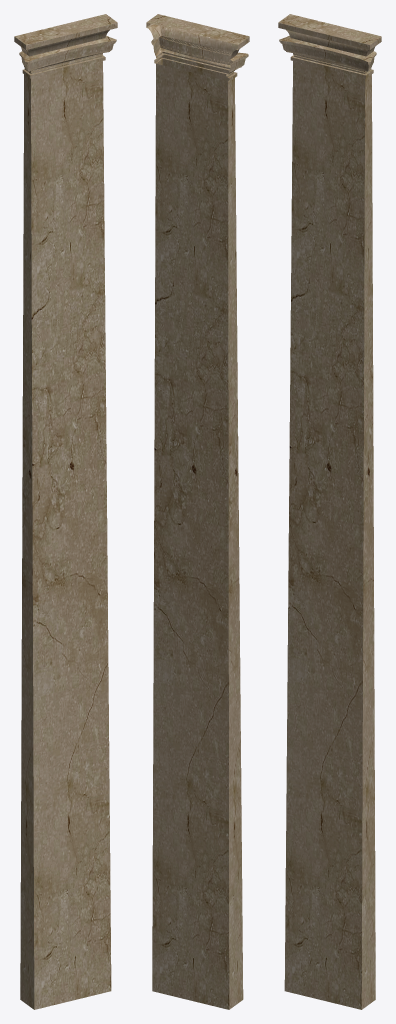
The model's file is pasted__stone_column_880.fbx.
The picture shows the model from 3 angles, left to right: view 1: azimuth 30°, elevation 25°; view 2: azimuth 150°, elevation 25°; view 3: azimuth 330°, elevation 25°; orthographic projection.
Visible parts, largest first — view 1: pasted__Node_1384; view 2: pasted__Node_1384; view 3: pasted__Node_1384.
Boxes of the visible parts, <box> form: pasted__Node_1384: <box>14,14,117,1009</box>; pasted__Node_1384: <box>146,14,249,1009</box>; pasted__Node_1384: <box>278,14,381,1009</box>.
Bounding box in the file's own units: 8.84 × 2.34 × 88.8.
